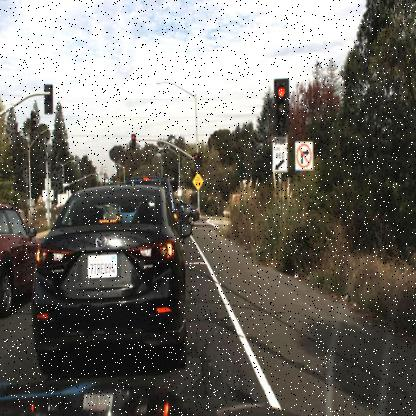car: (27, 181, 191, 372), (0, 202, 51, 319)
trafficLight-Red: (272, 78, 290, 136), (130, 132, 138, 152), (193, 151, 199, 168)
